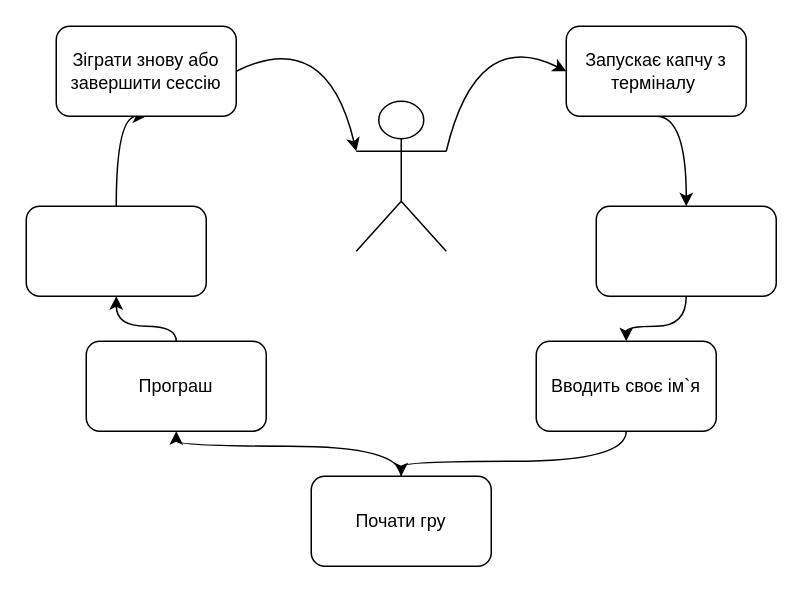
Some shapes in this 803 by 593 pixel diagram are drawn without their labels. Each missing label, with the centre of its shape:
"Player" goes at point 400,175.
"Переходить за посиланням на сайт" goes at point 685,250.
"Подивитися рекорд або табл.лідерів" goes at point 115,250.
